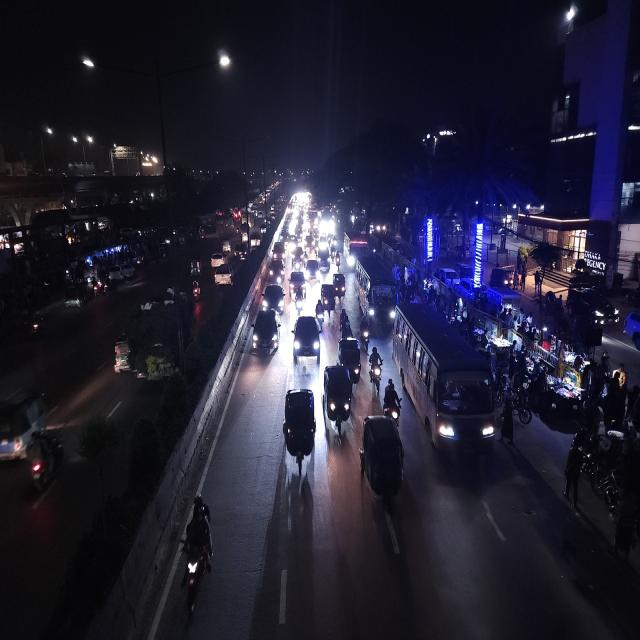bus: (394, 298, 499, 461), (354, 254, 398, 328), (344, 229, 366, 268)
car: (292, 312, 322, 368), (250, 306, 282, 358), (337, 334, 361, 382), (138, 287, 174, 316), (260, 281, 286, 313), (213, 260, 237, 290), (266, 258, 286, 286), (288, 270, 307, 297), (305, 256, 321, 283), (291, 245, 305, 269), (271, 242, 287, 262), (234, 241, 248, 262), (209, 250, 225, 268)
cng: (358, 412, 408, 512), (280, 384, 318, 475), (321, 361, 353, 443), (111, 330, 133, 377), (64, 283, 85, 311), (320, 284, 337, 316), (332, 271, 346, 303), (188, 255, 202, 278)
motorcycle: (175, 493, 216, 616), (25, 426, 65, 496), (383, 378, 401, 422), (368, 345, 383, 391), (28, 308, 46, 339), (339, 307, 352, 341), (293, 286, 307, 315), (313, 299, 326, 327), (190, 276, 202, 306), (360, 314, 371, 346), (334, 251, 342, 272)
